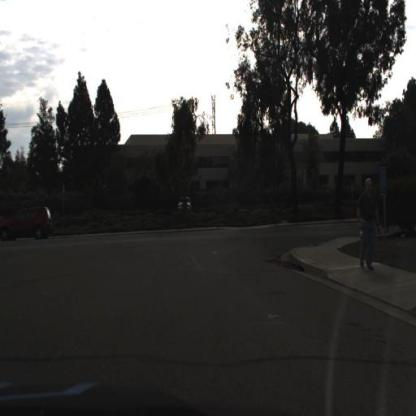car: (1, 204, 56, 243), (176, 196, 192, 221)
pedestrian: (360, 178, 382, 274)
